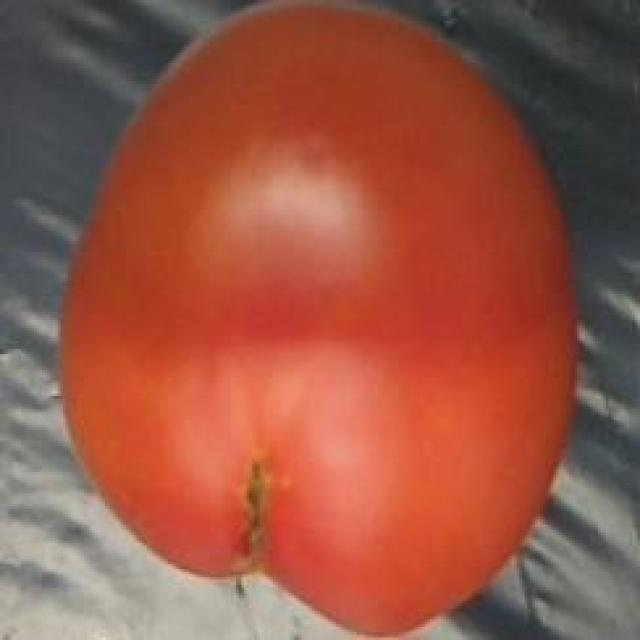overripe tomato: (58, 8, 585, 640)
